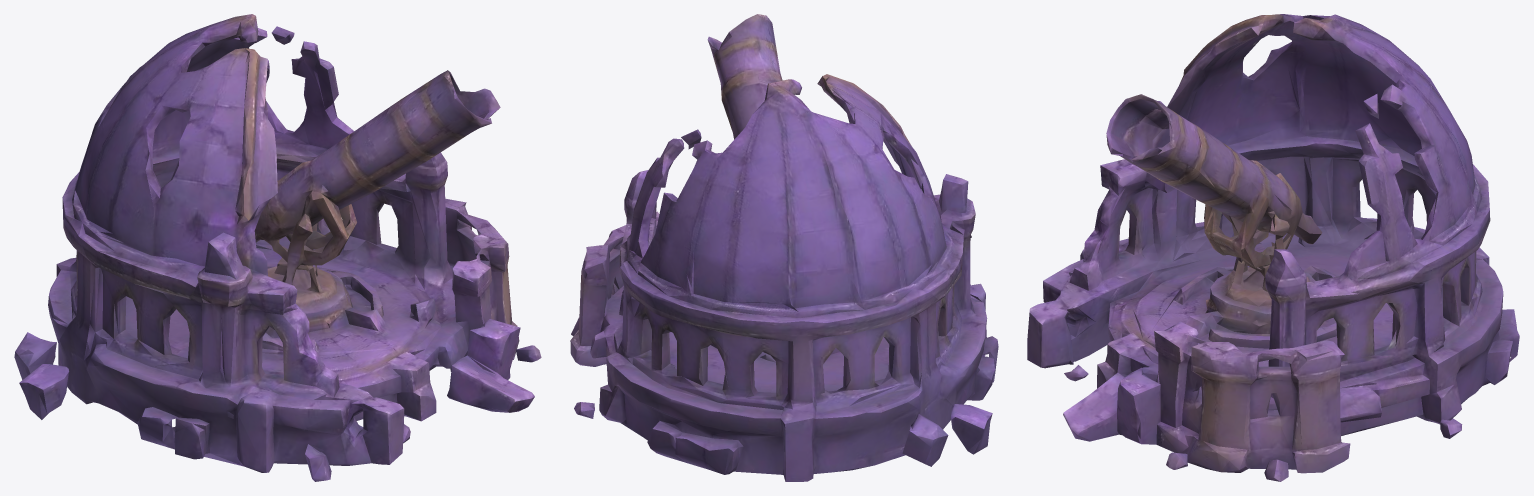
Rendered from ruined_observatory.glb.
The picture shows the model from 3 angles, left to right: view 1: azimuth 30°, elevation 25°; view 2: azimuth 150°, elevation 25°; view 3: azimuth 270°, elevation 25°; orthographic projection. The views are drawn at different scales.
Parts seen in each view (by area): view 1: body; view 2: body; view 3: body.
Part boxes in pixels (bbox=[...]): body: bbox=[14, 14, 541, 481]; body: bbox=[570, 14, 998, 481]; body: bbox=[1027, 14, 1519, 481].
Size of the model in its own units: 3.68 by 2.6 by 3.36.
Materials: 1 (1 with a texture image).
